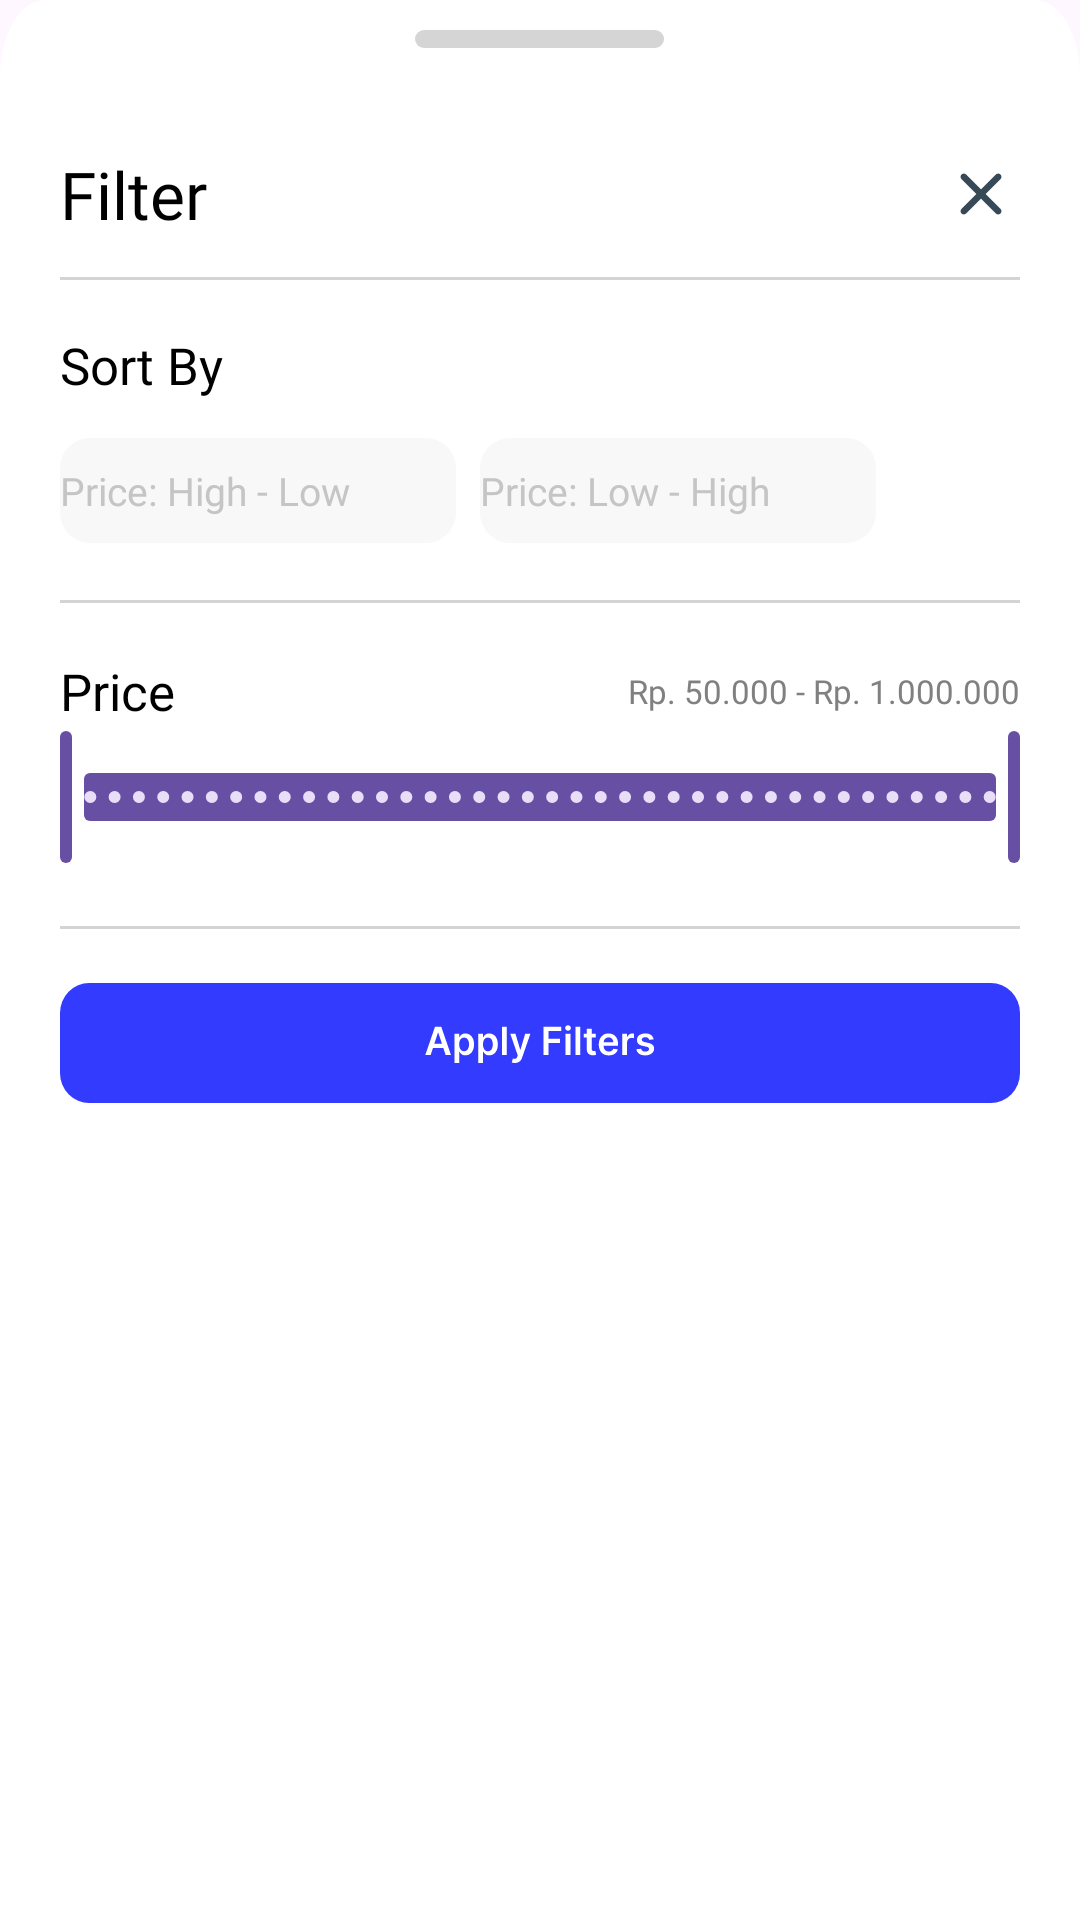

Icons on this 1080px×1920px Android screen, each with the point to tap as point (x, y):
cross: point (981, 194)
